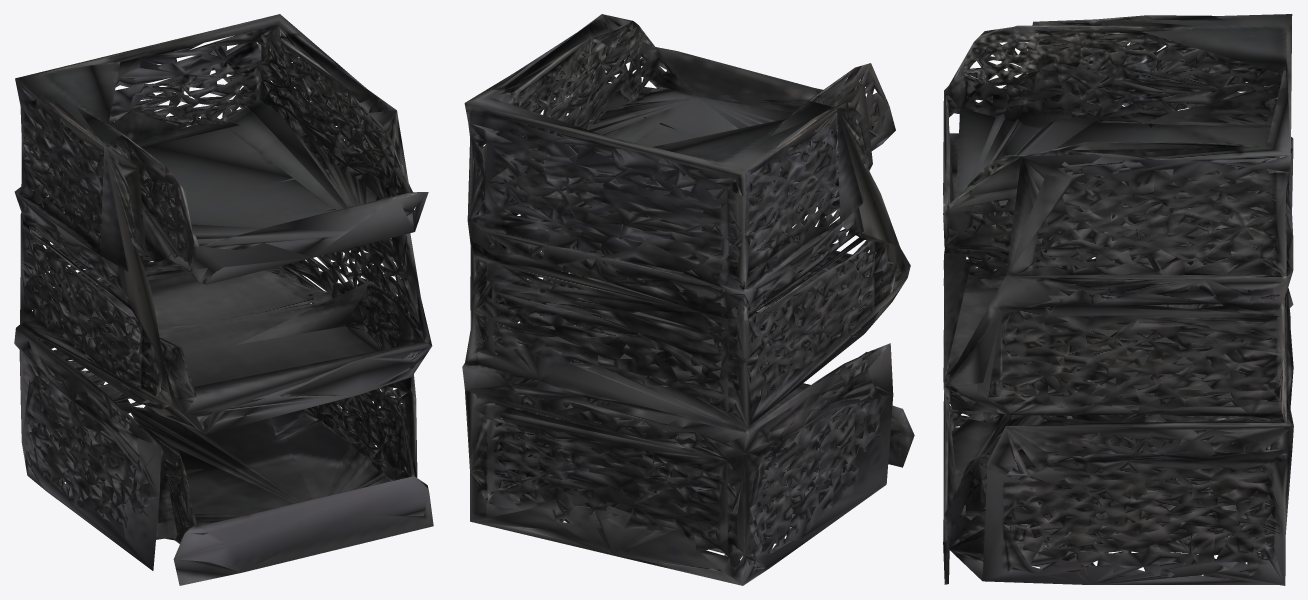
Rendered from Stacked_Organizer_Tra_0421154456_texture.glb.
The picture shows the model from 3 angles, left to right: view 1: azimuth 30°, elevation 25°; view 2: azimuth 150°, elevation 25°; view 3: azimuth 270°, elevation 25°; orthographic projection. The views are drawn at different scales.
Bounding box in the file's own units: 1.42 × 2 × 1.47.
1 material, 1 textured.
